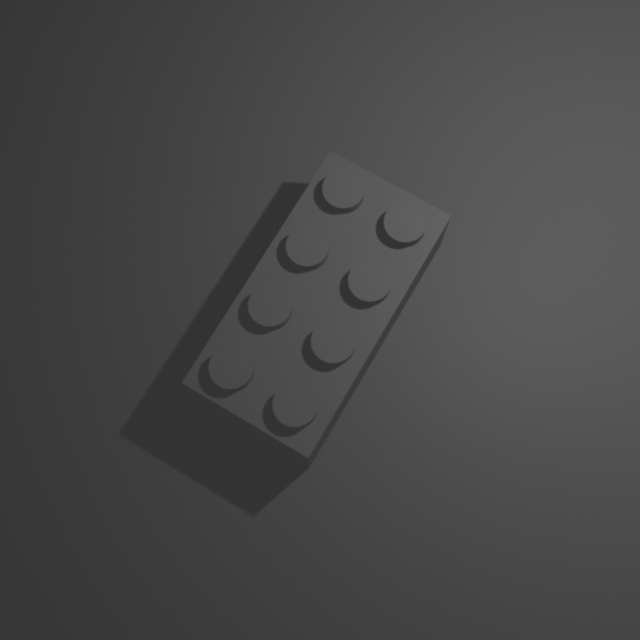lego_2x4: (179, 144, 453, 468)
